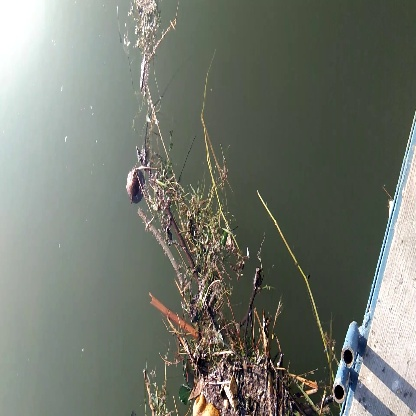branch: (141, 198, 204, 286)
